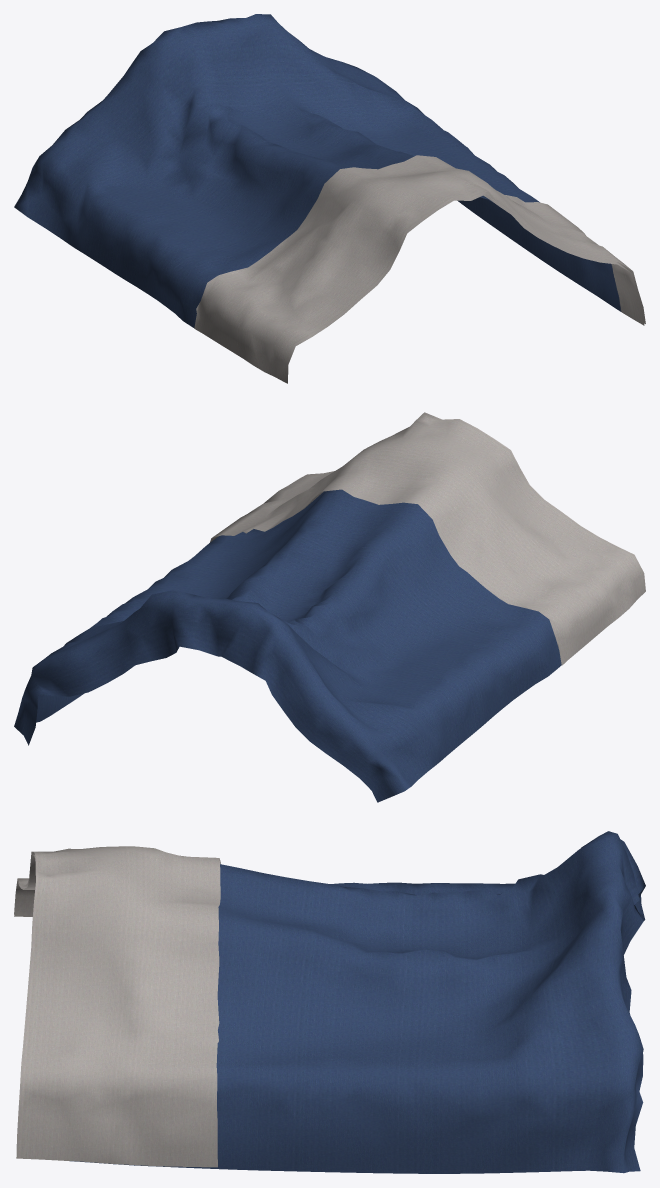
The model's file is Couettepatient.FBX.
3 renders of one model, top to bottom at view 1: azimuth 30°, elevation 25°; view 2: azimuth 150°, elevation 25°; view 3: azimuth 270°, elevation 25°, orthographic. The views are drawn at different scales.
Visible parts, largest first — view 1: CouettePatient; view 2: CouettePatient; view 3: CouettePatient.
Boxes of the visible parts, x1,y1,x2,y2 form: CouettePatient: (14, 14, 645, 383); CouettePatient: (14, 412, 645, 802); CouettePatient: (14, 831, 645, 1173).
Bounding box in the file's own units: 107 × 47.68 × 127.
